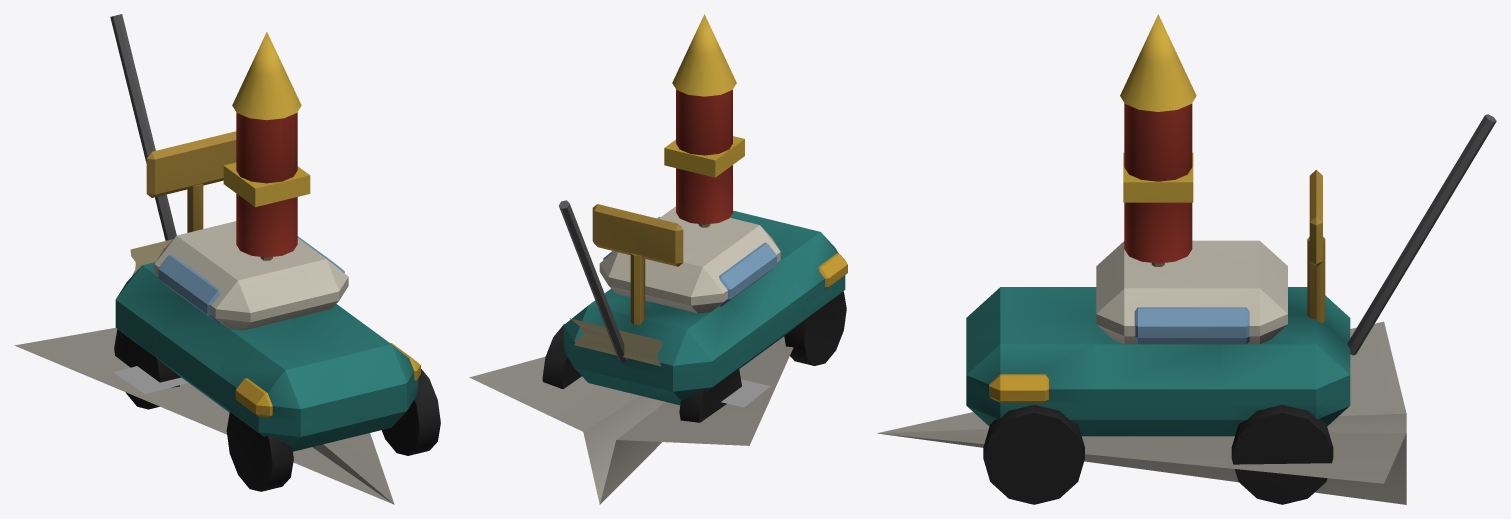
The model's file is helpers.glb.
The picture shows the model from 3 angles, left to right: view 1: azimuth 30°, elevation 25°; view 2: azimuth 150°, elevation 25°; view 3: azimuth 270°, elevation 25°; orthographic projection. The views are drawn at different scales.
Visible parts, largest first — view 1: windup_car, rocket, paper_plane; view 2: windup_car, paper_plane, rocket; view 3: windup_car, paper_plane, rocket.
Part boxes in pixels (x1,y1,x2,y2): windup_car: (110,14,440,491); rocket: (223,32,310,260); paper_plane: (14,327,394,504); windup_car: (542,200,847,422); paper_plane: (469,336,793,504); rocket: (664,14,744,227); windup_car: (966,114,1496,504); paper_plane: (877,321,1406,504); rocket: (1120,14,1196,266).
Bounding box in the file's own units: 0.34 × 0.48 × 0.5499.
